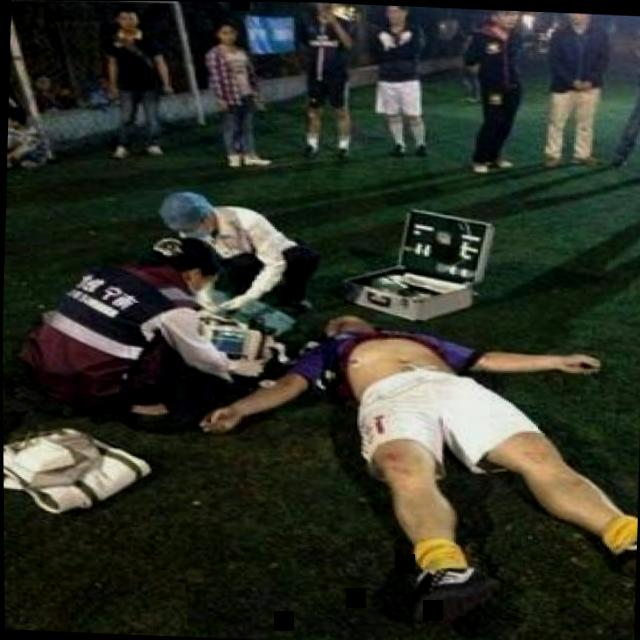Fall-Detected: (244, 289, 640, 636)
